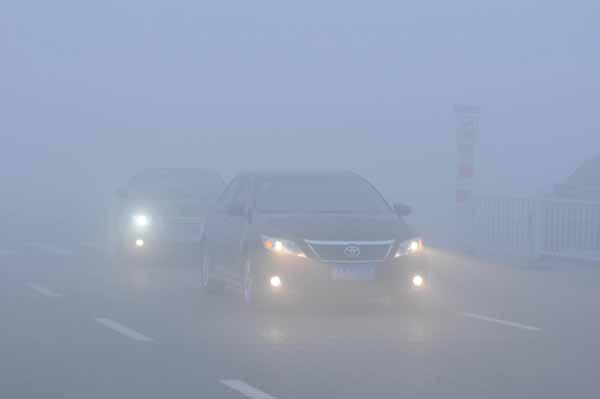car: (195, 166, 430, 313), (114, 164, 237, 268)
